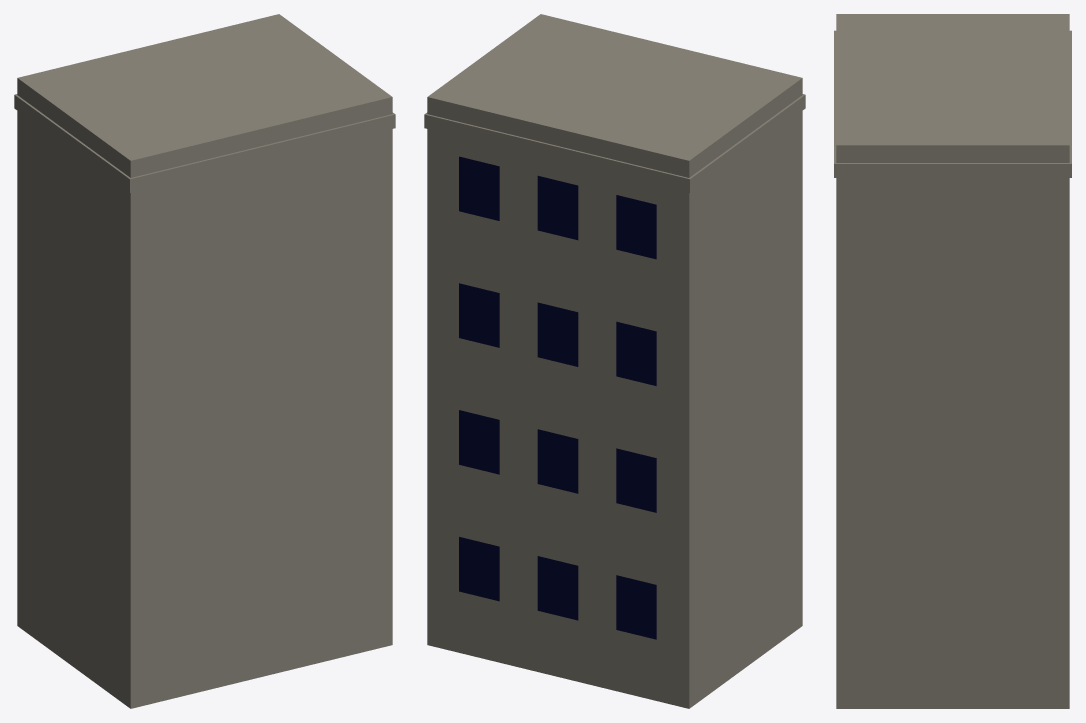
The model's file is env_building_block_b.obj.
The picture shows the model from 3 angles, left to right: view 1: azimuth 30°, elevation 25°; view 2: azimuth 150°, elevation 25°; view 3: azimuth 270°, elevation 25°; orthographic projection. The views are drawn at different scales.
Visible parts, largest first — view 1: BuildingBlock; view 2: BuildingBlock; view 3: BuildingBlock.
Boxes of the visible parts, x1=… form: BuildingBlock: x1=14, y1=14, x2=395, y2=708; BuildingBlock: x1=424, y1=14, x2=805, y2=708; BuildingBlock: x1=834, y1=14, x2=1071, y2=708.
Size of the model in its own units: 4.06 by 8 by 3.06.
